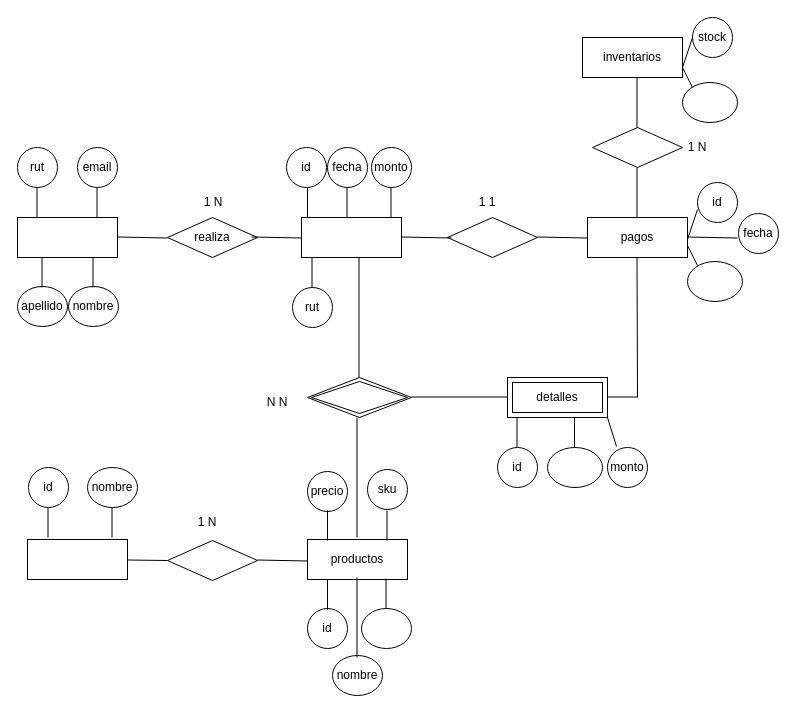
Some shapes in this 796 by 713 pixel diagram are drawn without their labels. The box of each missing label's shape, as (x1, y1, x2, y2) in pixels:
agrupa: (166, 540, 258, 580)
cantidad: (546, 446, 602, 488)
categoria: (360, 608, 412, 648)
categorias: (26, 538, 128, 580)
clientes: (16, 216, 118, 258)
contiene: (306, 376, 412, 418)
metodo pago: (686, 260, 742, 302)
mueve: (592, 126, 682, 168)
ordenes: (300, 216, 402, 258)
producto: (682, 82, 738, 122)
se pagan: (446, 216, 538, 258)
